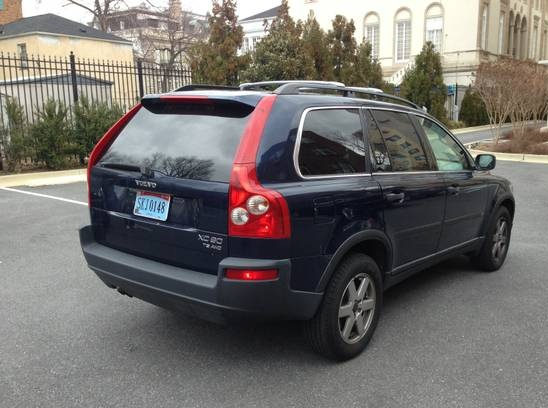volvo: (56, 69, 548, 371)
